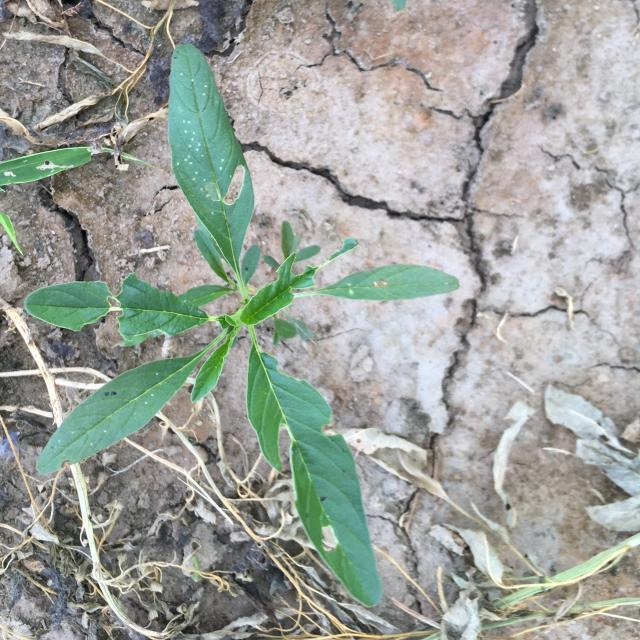Waterhemp: (24, 44, 460, 608)
